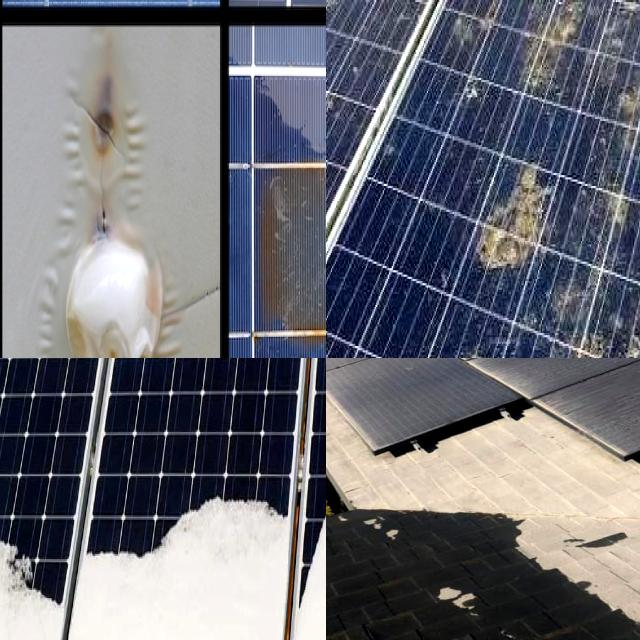bird: (474, 149, 562, 283), (518, 0, 588, 113), (600, 164, 640, 258), (455, 58, 488, 119), (612, 68, 640, 131), (569, 320, 604, 358), (326, 59, 347, 117), (326, 332, 346, 358)
dust: (507, 358, 640, 466), (326, 358, 430, 459), (376, 358, 519, 417), (417, 358, 525, 425), (326, 358, 383, 400), (407, 358, 565, 373)
panel: (0, 492, 66, 628), (124, 358, 241, 419), (148, 473, 210, 587), (220, 476, 290, 571), (82, 514, 145, 609), (300, 448, 326, 629), (0, 437, 39, 533), (0, 502, 31, 603), (42, 358, 112, 401), (0, 438, 47, 499), (0, 358, 45, 408), (247, 358, 314, 389), (0, 358, 42, 403), (0, 539, 37, 589), (0, 358, 63, 384), (0, 358, 25, 415), (0, 358, 41, 392)
shadow: (24, 0, 215, 97), (0, 23, 53, 358), (251, 124, 326, 351), (78, 74, 136, 190), (0, 231, 36, 358), (0, 0, 42, 93)
